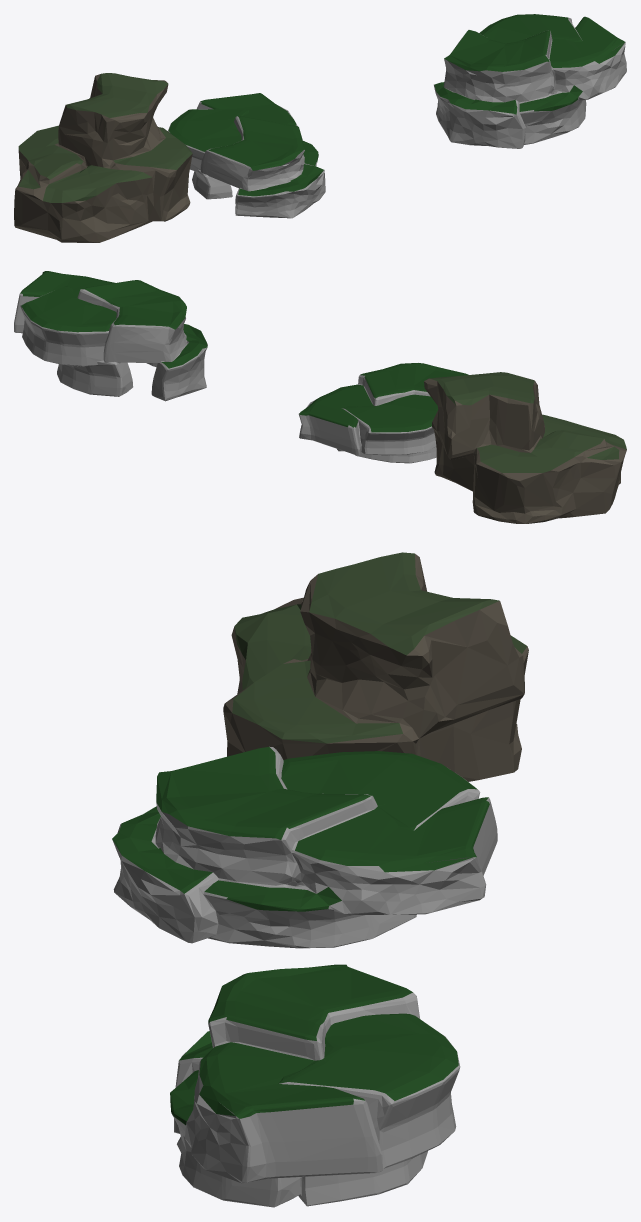
File: Cliff_CollectionScene1.FBX
3 renders of one model, top to bottom at view 1: azimuth 30°, elevation 25°; view 2: azimuth 150°, elevation 25°; view 3: azimuth 270°, elevation 25°, orthographic. The views are drawn at different scales.
Visible parts, largest first — view 1: Group56873, Group10977, Group57056; view 2: Group56873, Group10977, Group57056; view 3: Group57056, Group10977, Group56873.
Boxes of the visible parts, box(x1,y1,x2,y2) form: Group56873: box(14, 73, 192, 242); Group10977: box(434, 14, 626, 148); Group57056: box(168, 93, 325, 218); Group56873: box(424, 372, 626, 523); Group10977: box(14, 271, 207, 401); Group57056: box(298, 363, 468, 463); Group57056: box(112, 746, 497, 948); Group10977: box(170, 964, 460, 1207); Group56873: box(223, 552, 528, 781).
Bounding box in the file's own units: 3691 × 642 × 1133.
